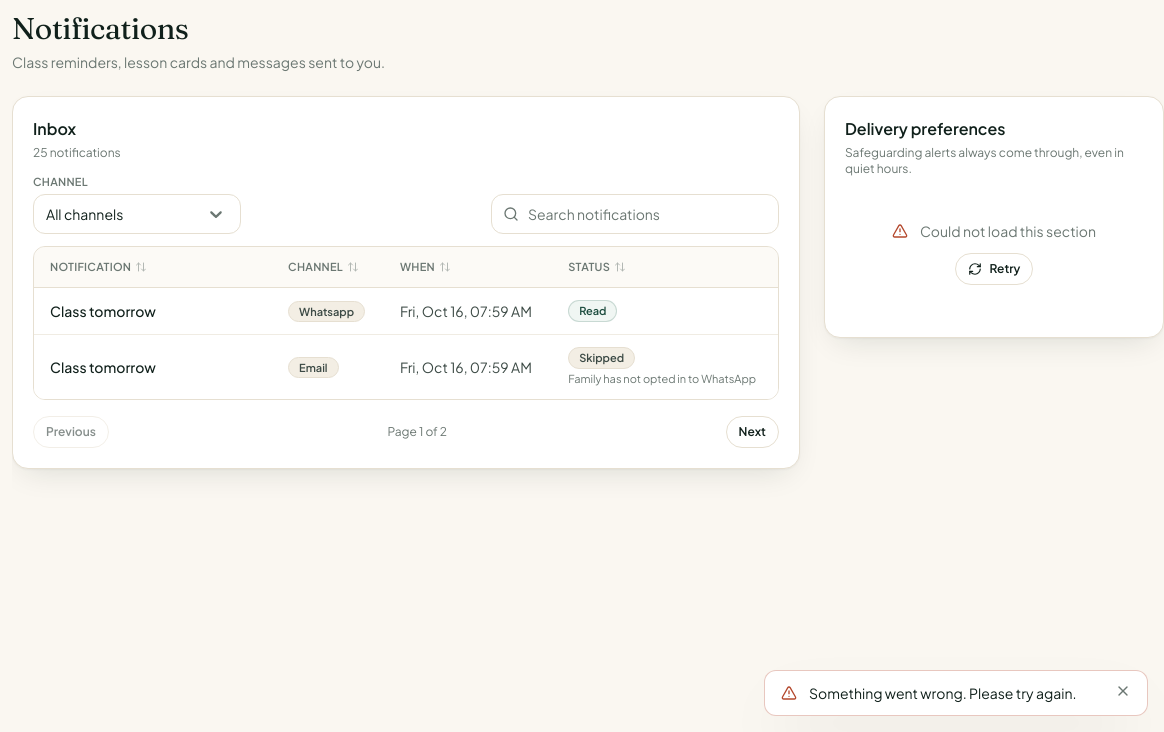
Test: Notifications inbox › pages through notifications (backend B19 fixed), tones status and shows why a delivery failed
Expected: the text "25 notifications" is shown, [33,145,121,161]
Expected: the text "Read" is shown, [568,300,618,322]
Click the button "Next" at (752, 432), box [726,416,779,448]
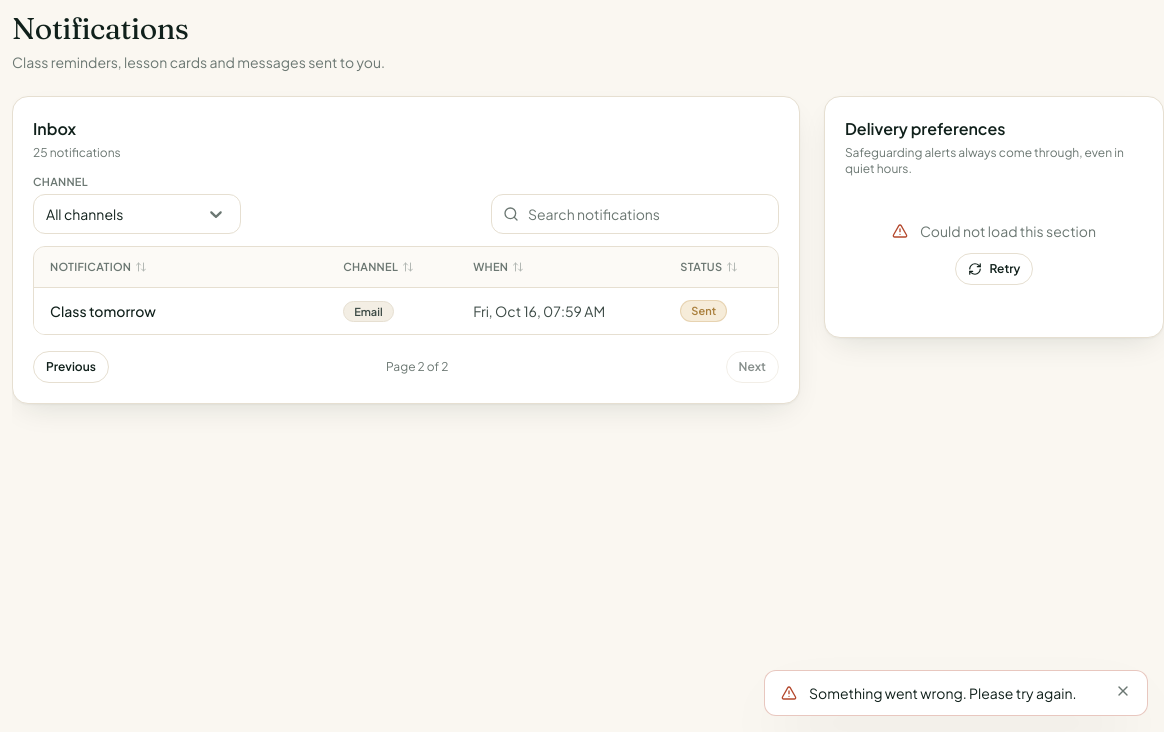
Expected: the text "Page 2 of 2" is shown, [386,359,448,375]
